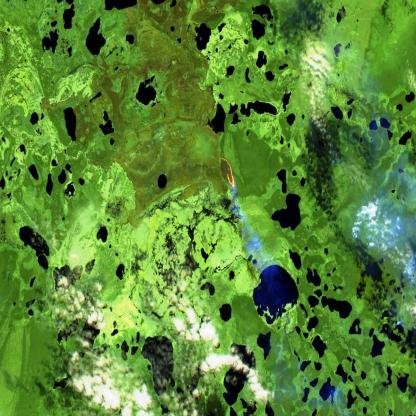fire: (217, 153, 240, 195)
